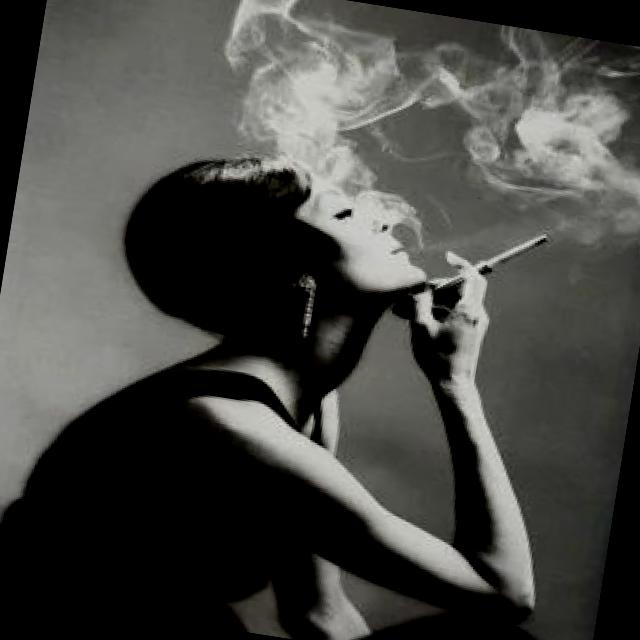smoke: (422, 213, 558, 319)
